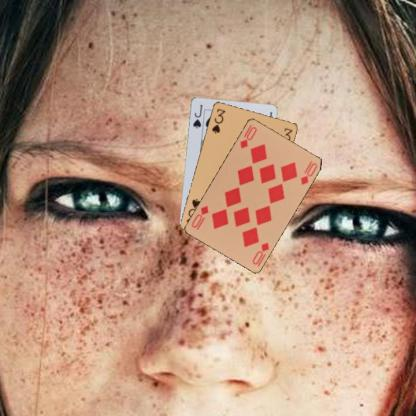10d: (250, 239, 270, 268), (238, 122, 258, 150)
3s: (209, 106, 227, 134)
Js: (190, 102, 204, 130)
